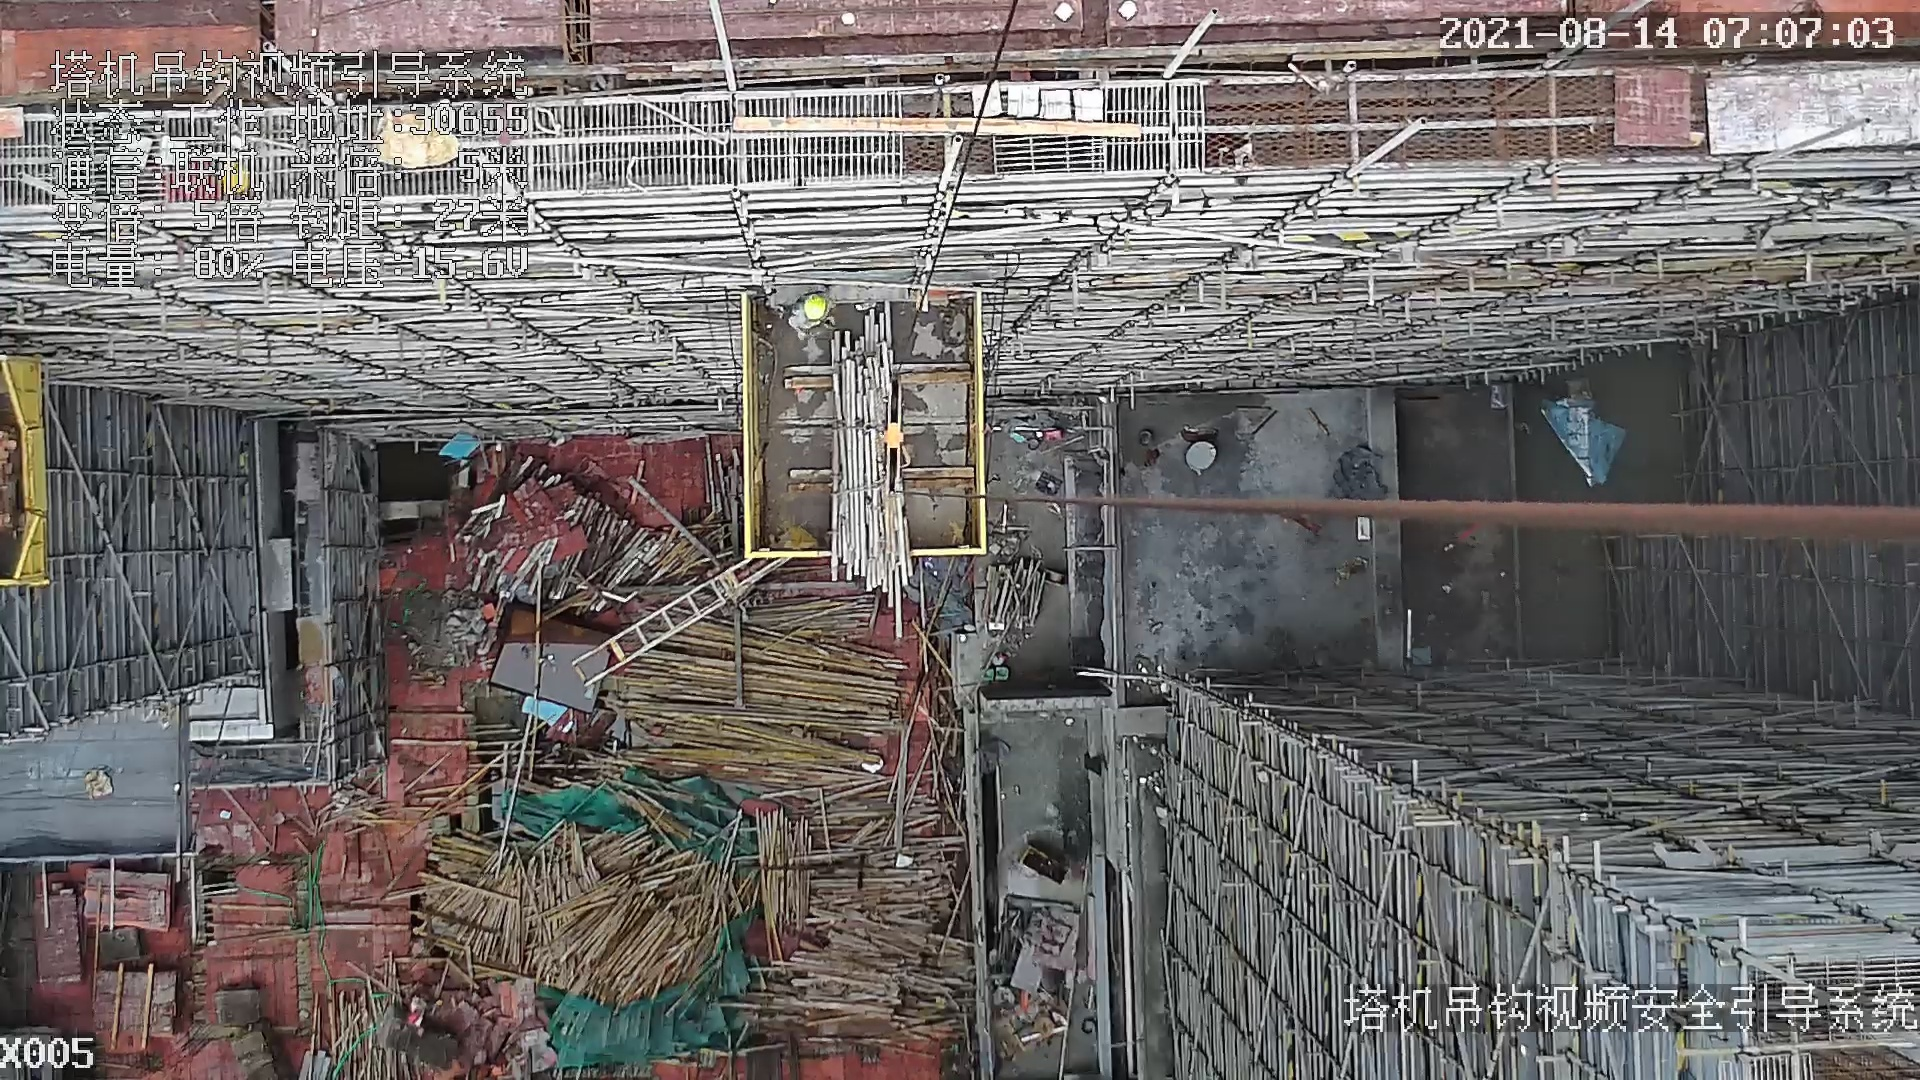helmet: (802, 294, 827, 322)
hook: (872, 378, 914, 499)
person: (781, 289, 836, 333)
